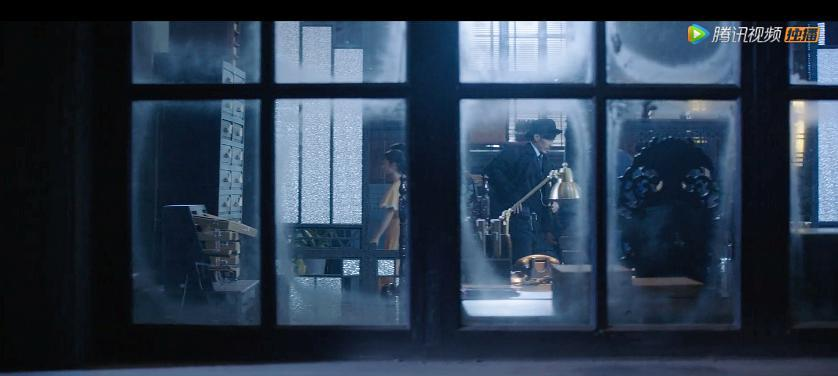face: (381, 155, 398, 176), (538, 133, 553, 153)
specialarea: (544, 138, 551, 143)
